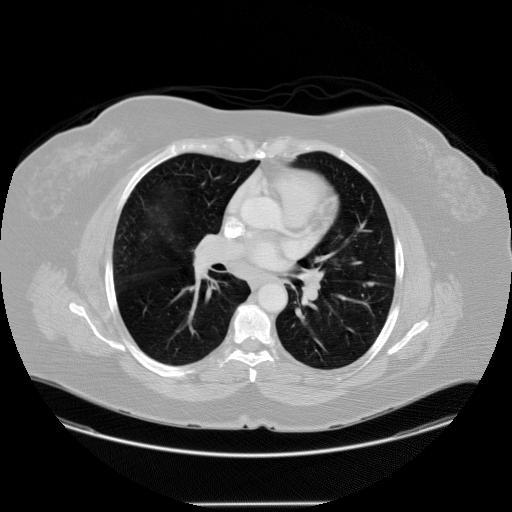nodule: (365, 278, 377, 290)
